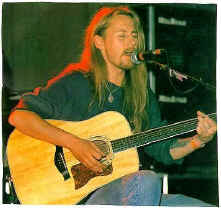guitar: (6, 110, 217, 206)
